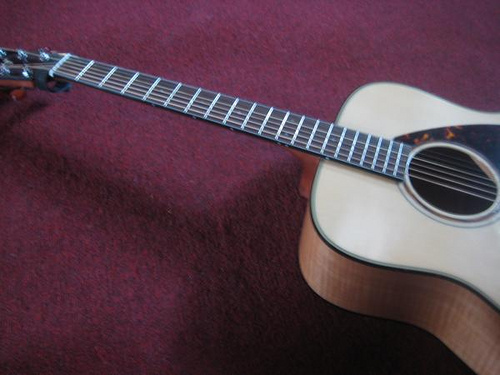guitar: (1, 43, 500, 374)
